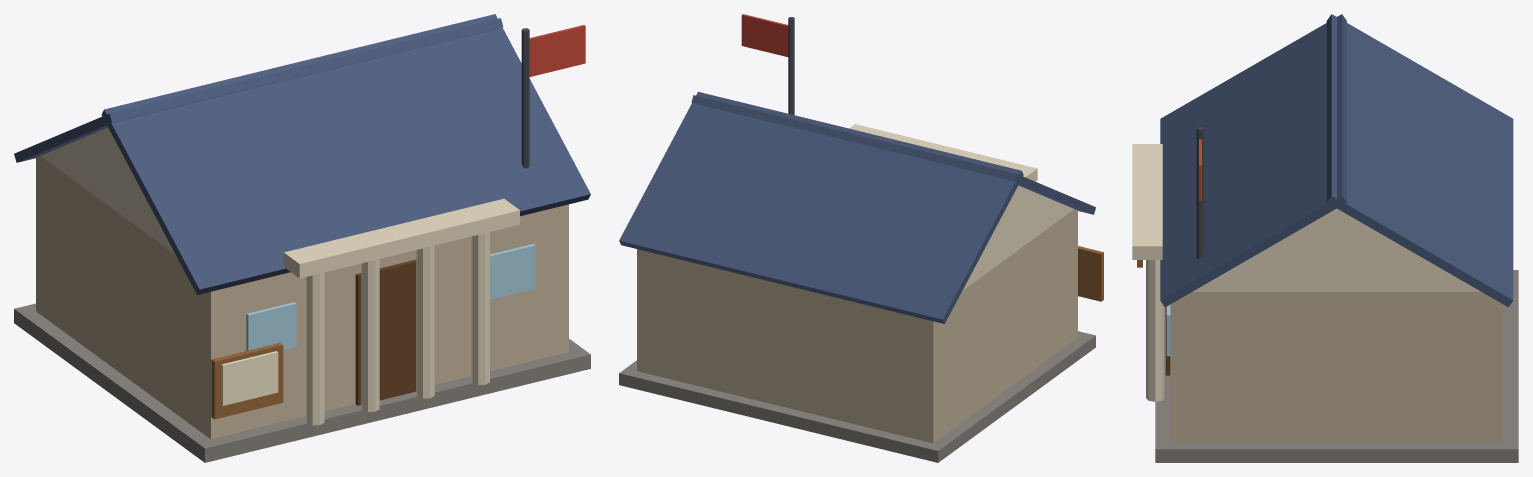
File: CC_CivicPublicService.fbx
3 renders of one model, left to right at view 1: azimuth 30°, elevation 25°; view 2: azimuth 150°, elevation 25°; view 3: azimuth 270°, elevation 25°, orthographic. The views are drawn at different scales.
Parts seen in each view (by area): view 1: CivicPublicService_Body; view 2: CivicPublicService_Body; view 3: CivicPublicService_Body.
Part boxes in pixels (x1,y1,x2,y2): CivicPublicService_Body: (14, 14, 590, 462); CivicPublicService_Body: (619, 14, 1103, 462); CivicPublicService_Body: (1132, 14, 1518, 462).
Bounding box in the file's own units: 2.95 × 2.3 × 2.55.
